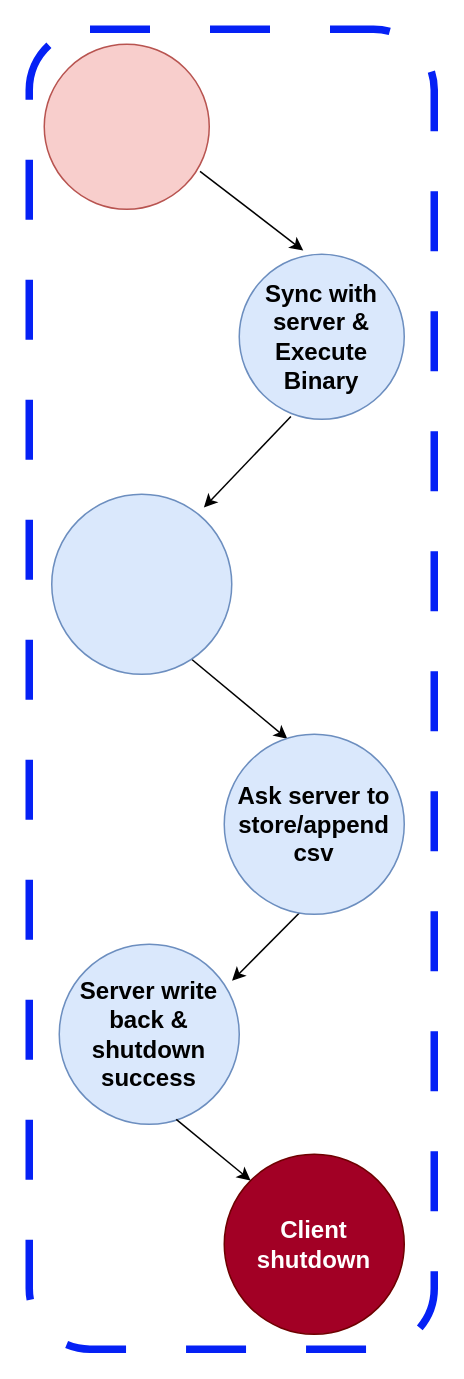
The diagram is 464 pixels wide and 1379 high, and some of its shapes have lost their labels. The centre of each missing label's shape, as x and y in pixels:
"Ask Server to stop BT logging" goes at [141,583].
"Start" goes at [126,126].
